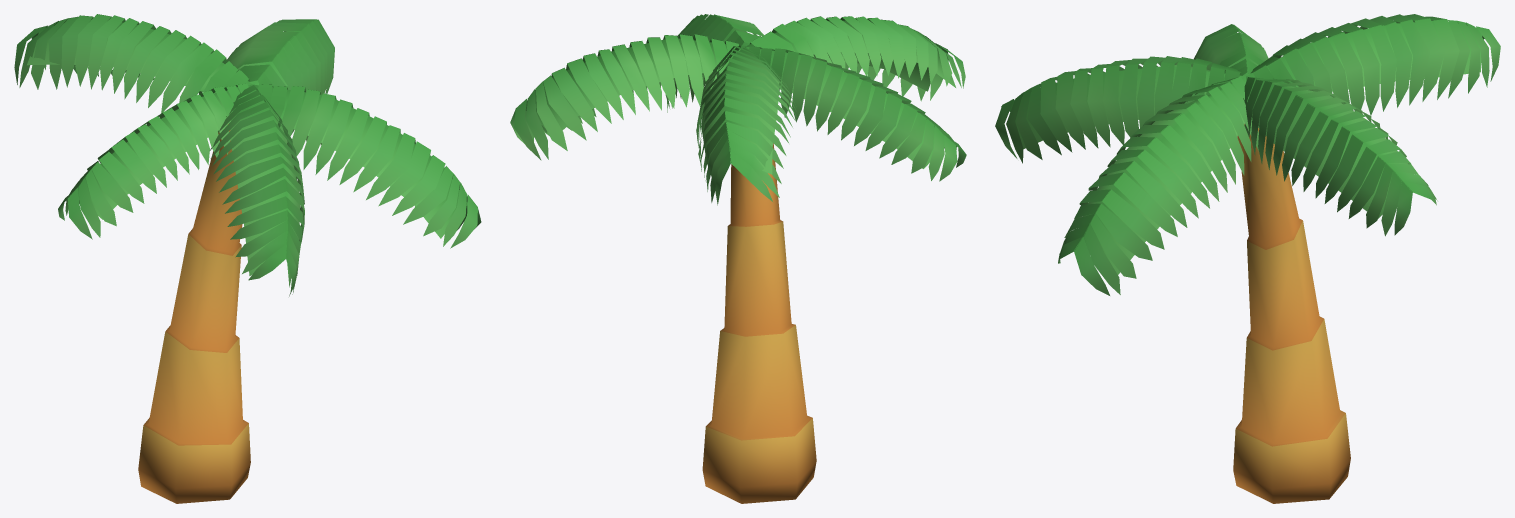
Rendered from PalmTree1.fbx.
3 renders of one model, left to right at view 1: azimuth 30°, elevation 25°; view 2: azimuth 150°, elevation 25°; view 3: azimuth 270°, elevation 25°, orthographic. The views are drawn at different scales.
Visible parts, largest first — view 1: Circle.049, Circle.001; view 2: Circle.049, Circle.001; view 3: Circle.049, Circle.001.
Boxes of the visible parts, <box> form: Circle.049: <box>14,14,481,296</box>; Circle.001: <box>138,124,250,503</box>; Circle.049: <box>510,14,966,205</box>; Circle.001: <box>702,143,816,503</box>; Circle.049: <box>995,14,1500,295</box>; Circle.001: <box>1233,124,1350,503</box>.
Size of the model in its own units: 569 by 661 by 670.
